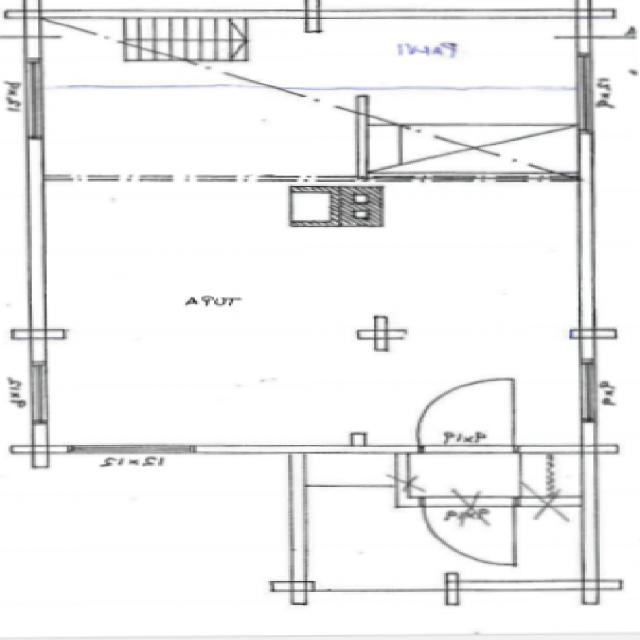door: (418, 383, 514, 452)
